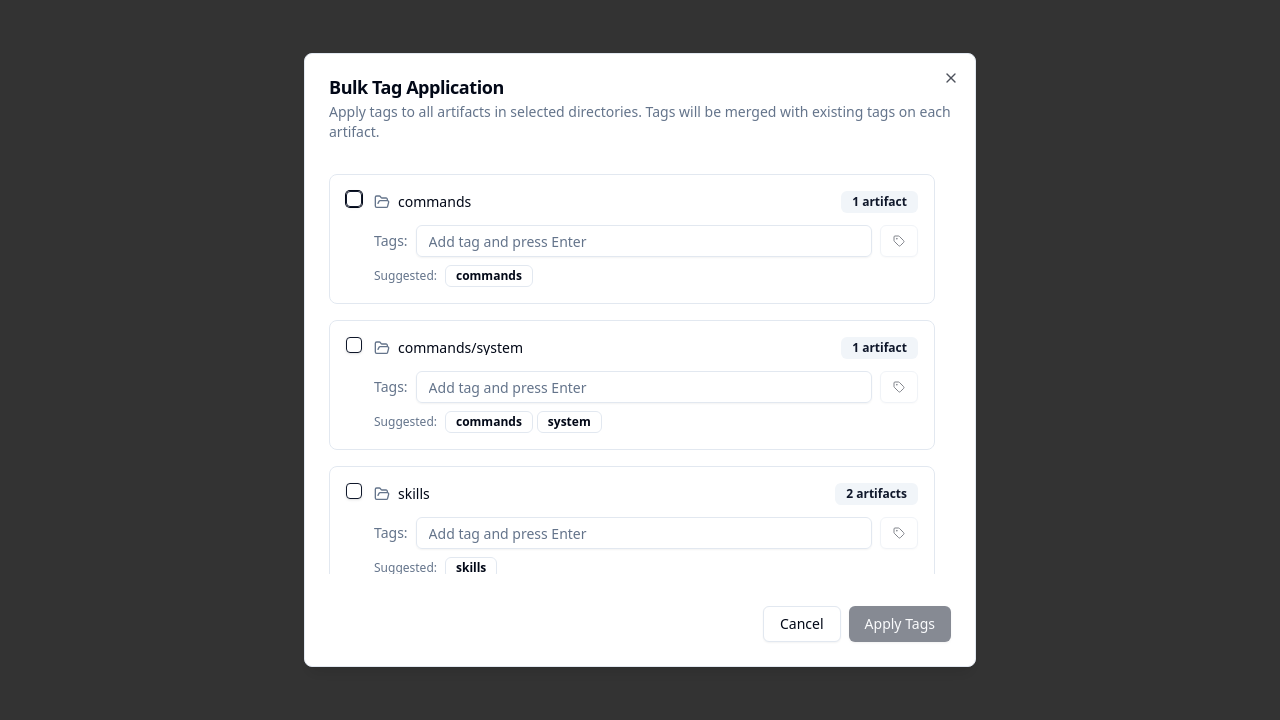
Scenario: BulkTagDialog › Directory Selection › enables Apply button when directory is selected
Check: the button "Apply Tags" is disabled, box x1=849 y1=606 x2=951 y2=642
Step 1. Click the checkbox named "select skills" → (354, 491), box x1=346 y1=483 x2=362 y2=499
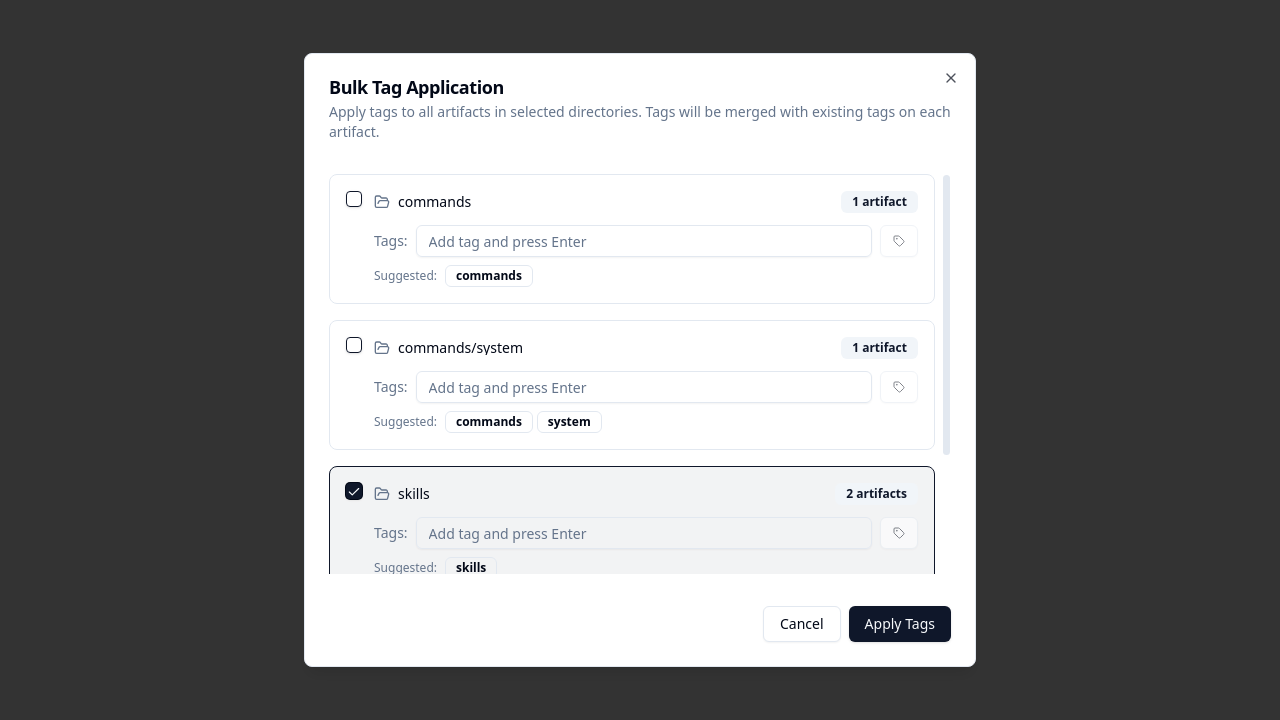
Check: the button "Apply Tags" is enabled, box x1=849 y1=606 x2=951 y2=642
